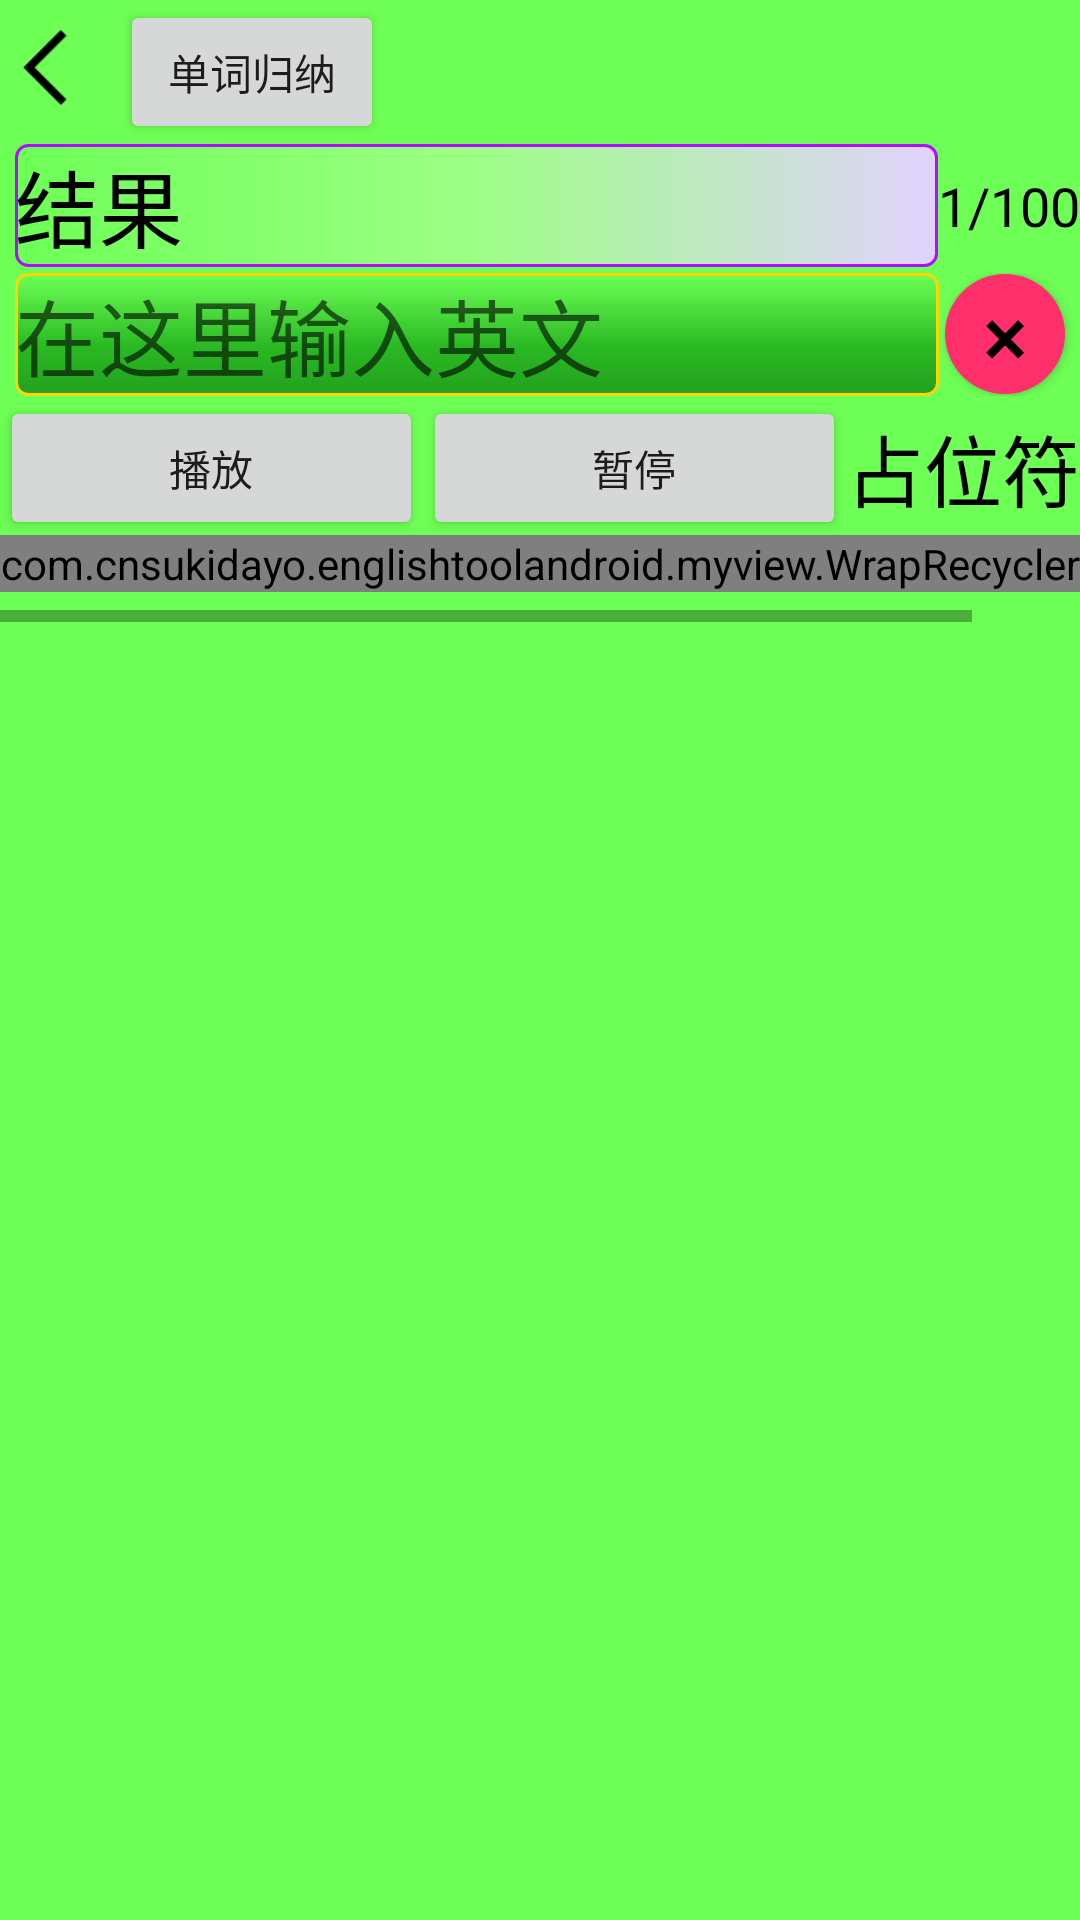

Named icons in this screenshot (1080 x 1920) and their bounding boxes, (x1, y1, x2, y2):
back: (23, 30, 67, 105)
